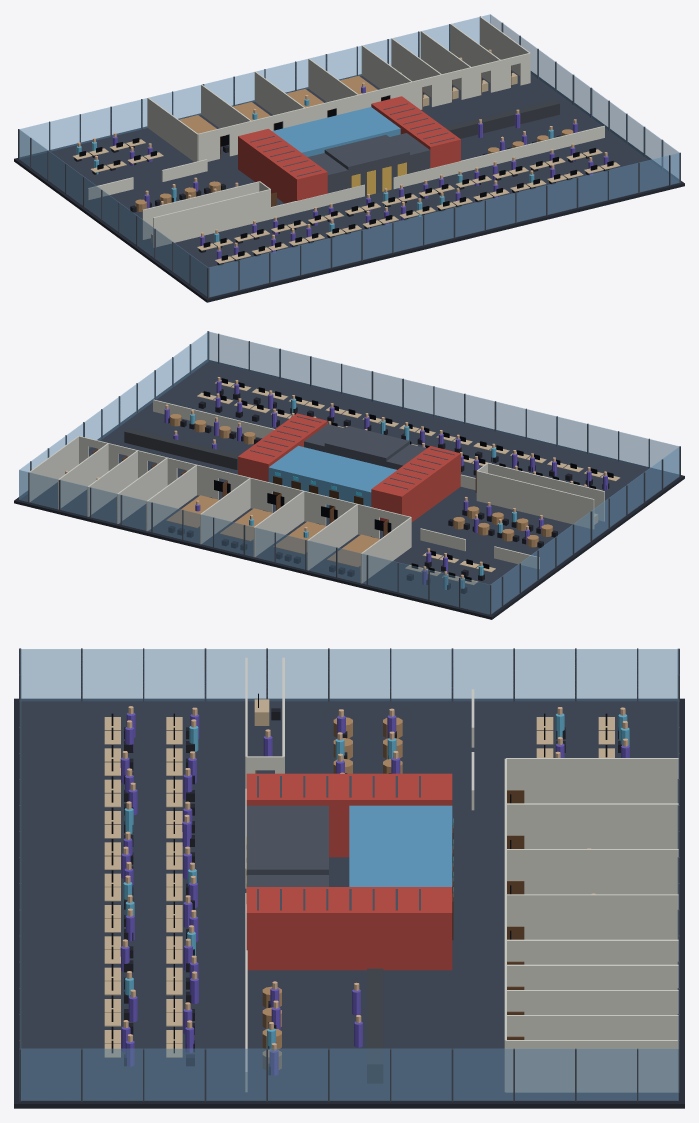
3 renders of one model, top to bottom at view 1: azimuth 30°, elevation 25°; view 2: azimuth 150°, elevation 25°; view 3: azimuth 270°, elevation 25°, orthographic. The views are drawn at different scales.
Parts seen in each view (by area): view 1: L10_floor_carpet, L10_glass, L10_wall, L10_core, L10_stair, L10_desk, L10_slab, L10_wash, L10_screen, L10_table, L10_role_manager, L10_counter (+4 smaller); view 2: L10_glass, L10_floor_carpet, L10_wall, L10_core, L10_stair, L10_slab, L10_table, L10_wash, L10_chair, L10_desk, L10_screen, L10_role_manager (+3 smaller); view 3: L10_floor_carpet, L10_glass, L10_wall, L10_stair, L10_core, L10_desk, L10_slab, L10_wash, L10_role_manager, L10_person_skin, L10_chair, L10_table (+4 smaller).
Boxes of the visible parts, bbox=[...] form: L10_floor_carpet: bbox=[19, 70, 679, 297]; L10_glass: bbox=[19, 14, 679, 296]; L10_wall: bbox=[88, 17, 604, 247]; L10_core: bbox=[18, 16, 680, 298]; L10_stair: bbox=[238, 96, 460, 203]; L10_desk: bbox=[72, 73, 620, 263]; L10_slab: bbox=[14, 71, 684, 302]; L10_wash: bbox=[272, 107, 400, 156]; L10_screen: bbox=[79, 71, 613, 260]; L10_table: bbox=[135, 76, 573, 211]; L10_role_manager: bbox=[112, 86, 608, 264]; L10_counter: bbox=[444, 100, 559, 138]; L10_glass: bbox=[19, 331, 679, 614]; L10_floor_carpet: bbox=[19, 361, 679, 614]; L10_wall: bbox=[28, 399, 604, 583]; L10_core: bbox=[28, 331, 680, 615]; L10_stair: bbox=[238, 413, 460, 522]; L10_slab: bbox=[14, 360, 684, 619]; L10_table: bbox=[166, 414, 552, 567]; L10_wash: bbox=[268, 445, 396, 507]; L10_chair: bbox=[168, 389, 609, 593]; L10_desk: bbox=[197, 380, 620, 585]; L10_screen: bbox=[203, 378, 613, 581]; L10_role_manager: bbox=[164, 380, 607, 584]; L10_floor_carpet: bbox=[21, 700, 678, 1101]; L10_glass: bbox=[20, 649, 678, 1100]; L10_wall: bbox=[245, 657, 678, 1092]; L10_stair: bbox=[246, 773, 452, 970]; L10_core: bbox=[19, 648, 679, 1101]; L10_desk: bbox=[104, 699, 614, 1057]; L10_slab: bbox=[14, 698, 684, 1108]; L10_wash: bbox=[349, 805, 452, 886]; L10_role_manager: bbox=[120, 713, 629, 1075]; L10_person_skin: bbox=[122, 706, 628, 1050]; L10_chair: bbox=[124, 708, 621, 1075]; L10_table: bbox=[262, 717, 402, 1069].
Size of the model in its own units: 46.6 by 3.37 by 32.6.
